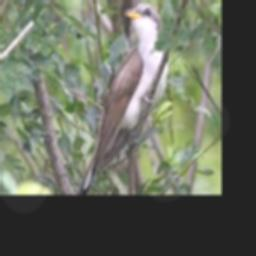Cuckoo: (80, 2, 167, 193)
